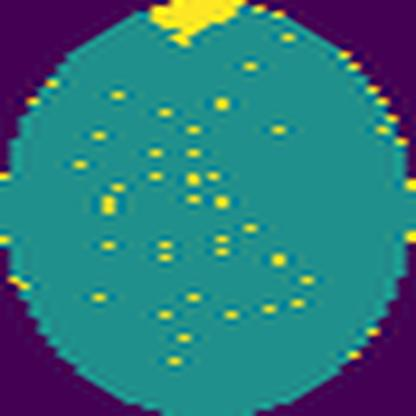Edge-Loc: (148, 0, 251, 46)
